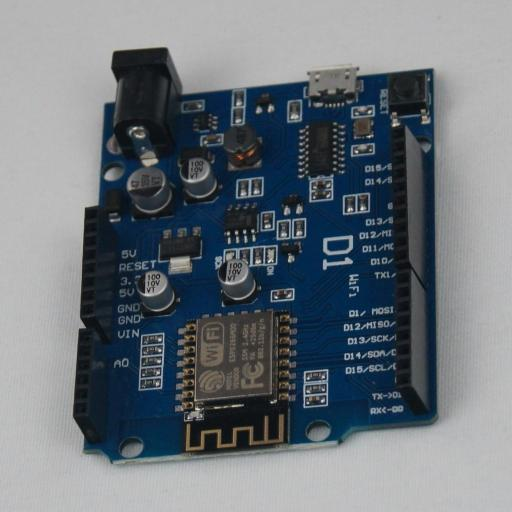Arduino Uno WiFi Shield: (72, 47, 438, 464)
